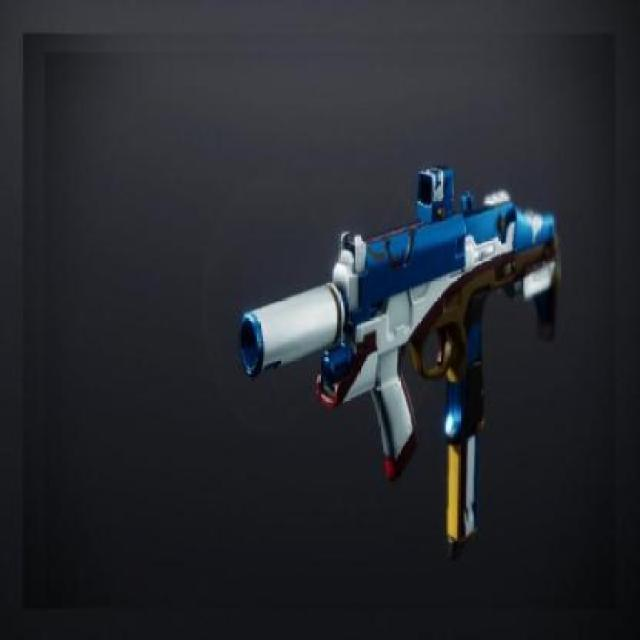weapon: (236, 162, 562, 553)
